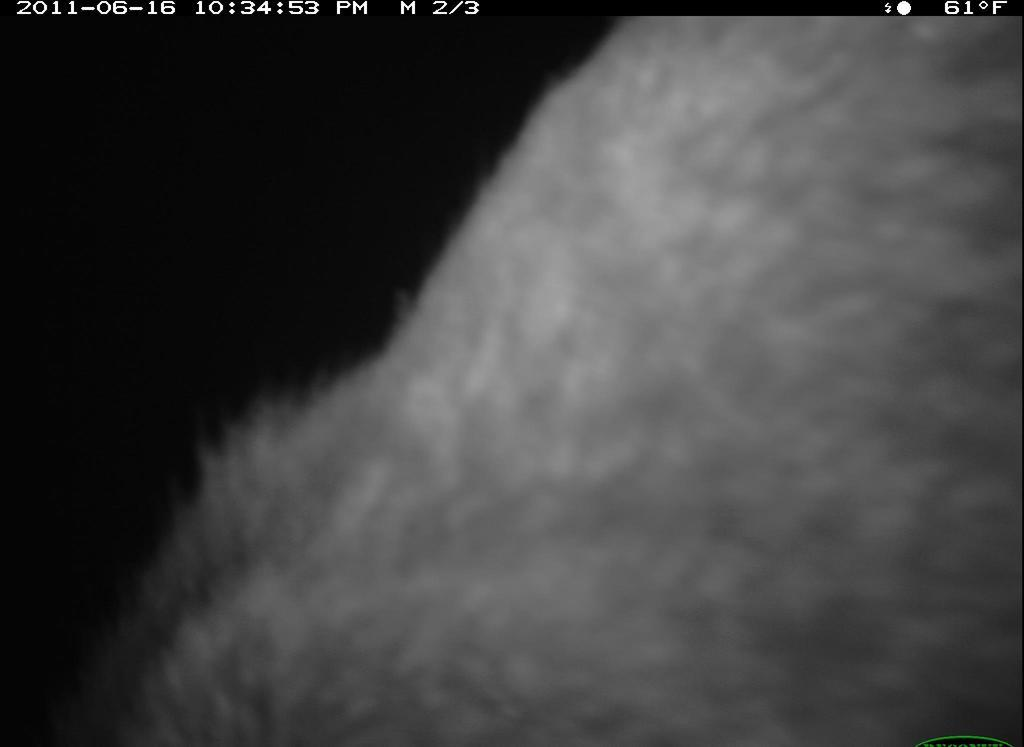raccoon: (58, 4, 1019, 744)
